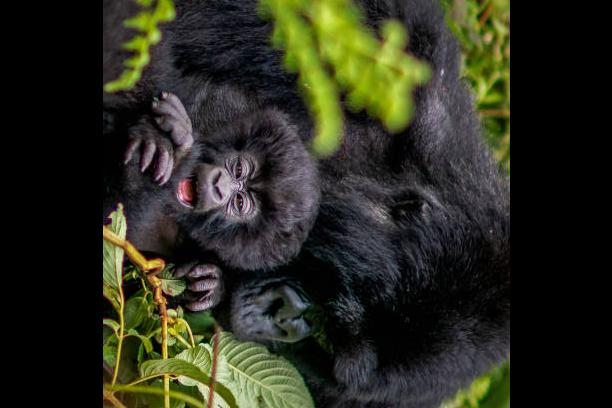goriile_montagne: (218, 7, 510, 408), (122, 87, 324, 264)
